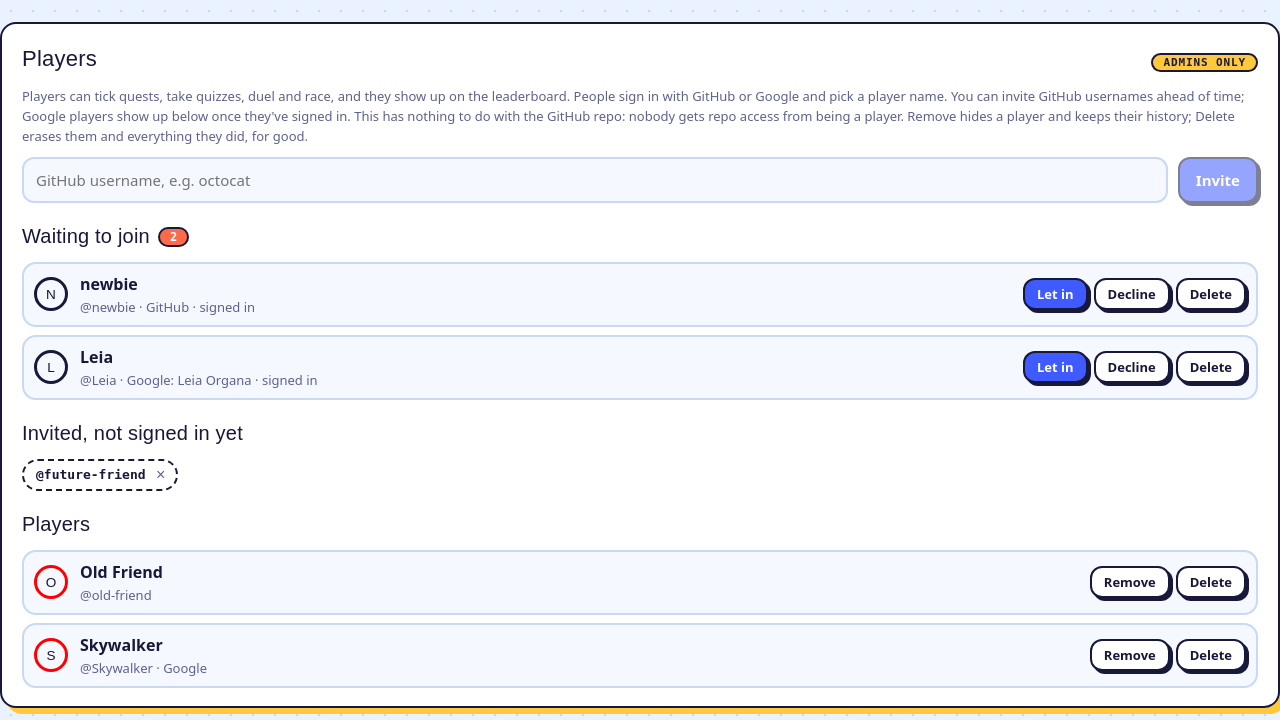
Test: PlayersPanel delete › closes the form and says so after a delete
The image size is (1280, 720).
Click the button "Delete" in the row of "Old Friend" at x=1211, y=582, box [1176,566,1246,598]
(page scrolled)
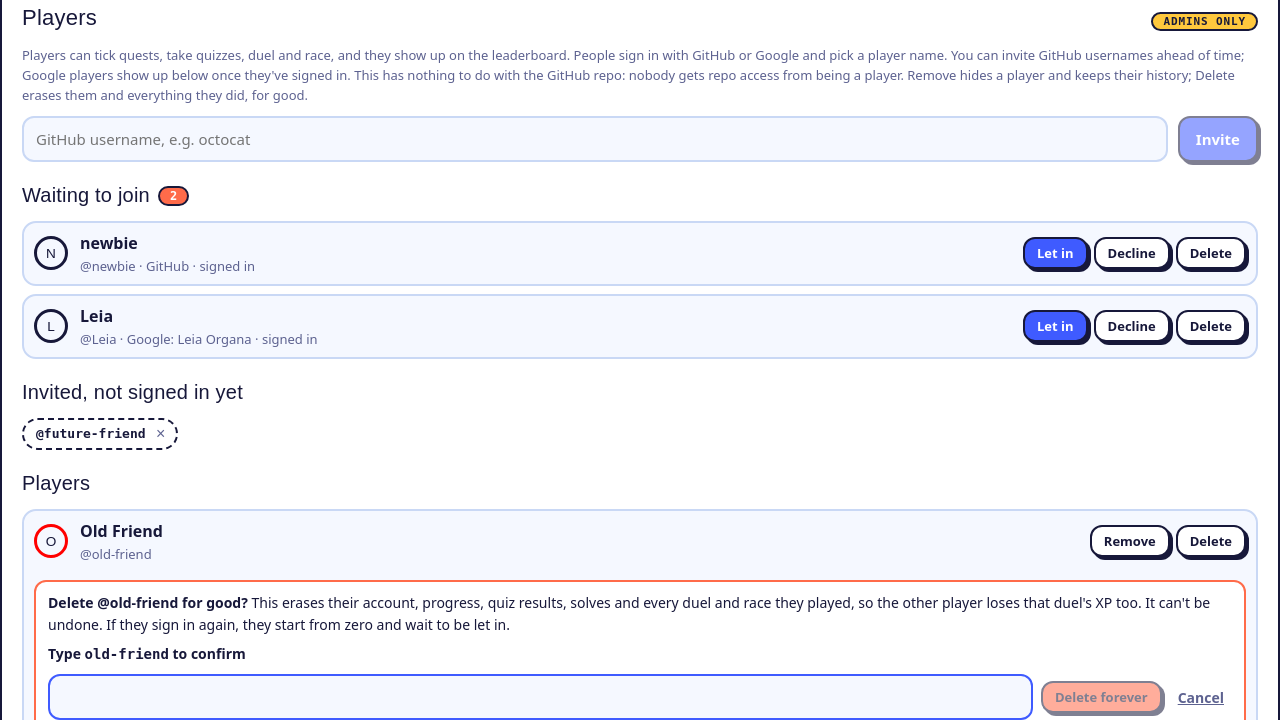
Type "old-friend" into the field labelled "Type old-friend to confirm" at x=540, y=697, box [48,674,1033,719]
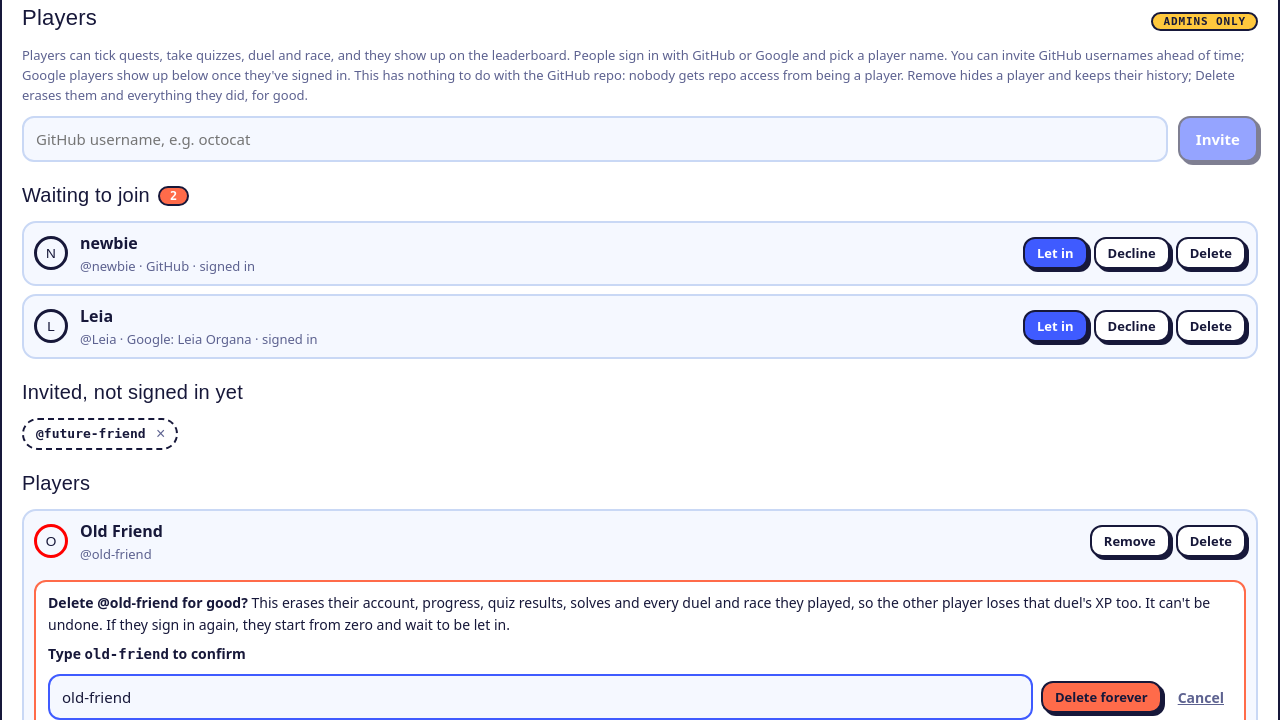
Click the button "Delete forever" at x=1101, y=697, box [1041,681,1162,713]
(page scrolled)
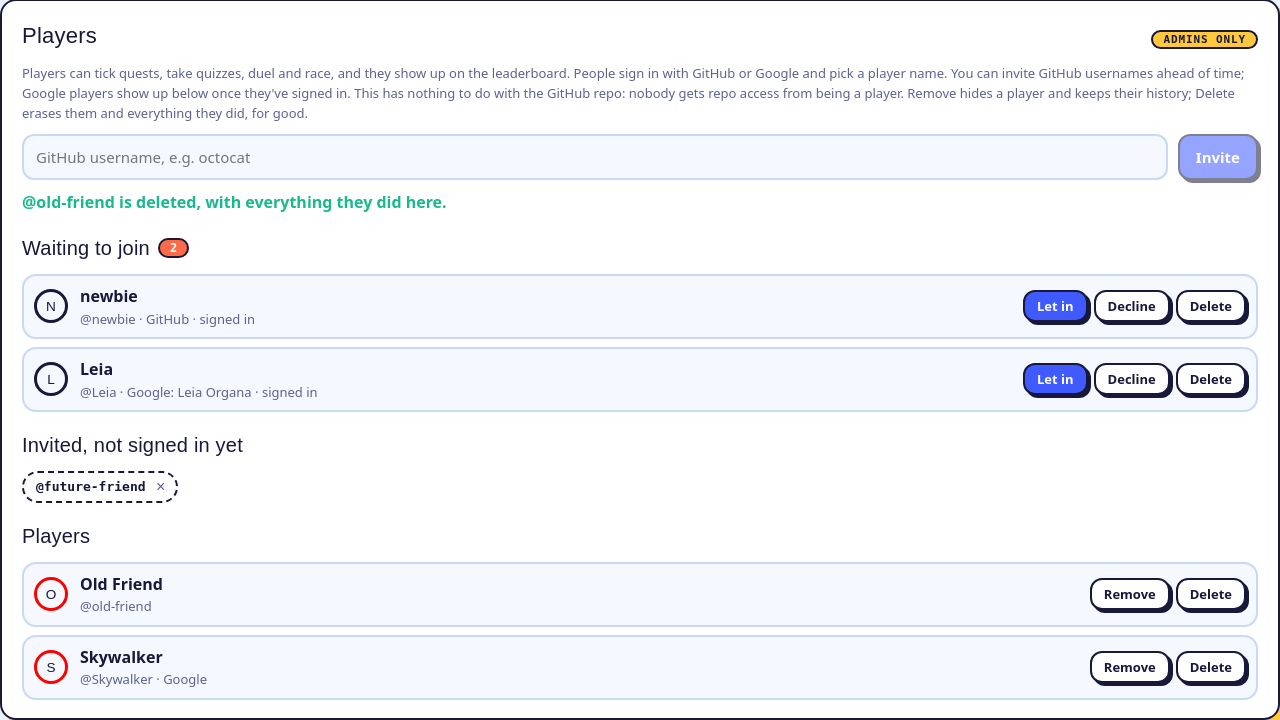
Expected: the label labelled "to confirm" is gone
Expected: the message shows "@old-friend is deleted", [22,191,447,213]
